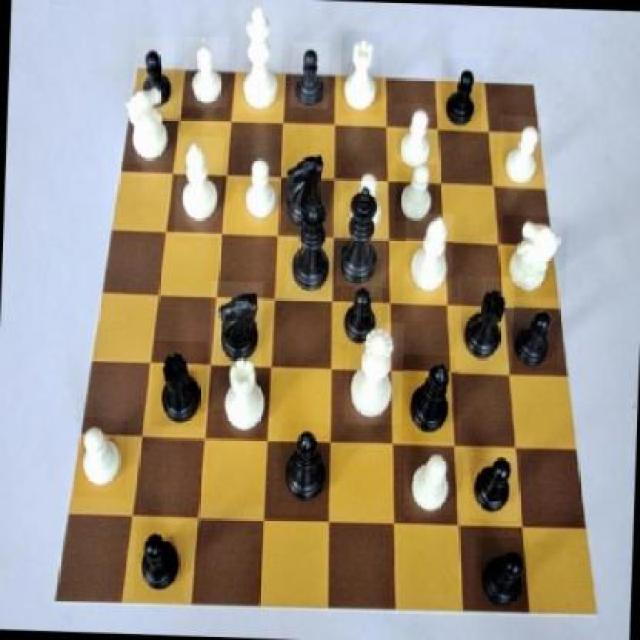bishop: (400, 355, 459, 443), (277, 422, 332, 506)
black-bishop: (336, 182, 390, 288)
black-king: (209, 280, 265, 366), (278, 148, 332, 235)
black-knight: (132, 522, 186, 600), (474, 537, 529, 612), (462, 452, 519, 520), (508, 302, 560, 372), (132, 36, 176, 111), (438, 57, 482, 130), (337, 278, 383, 346), (289, 42, 330, 108)
black-pawn: (286, 191, 337, 300)
black-queen: (456, 275, 516, 371), (151, 340, 207, 428)
black-rook: (174, 136, 223, 237), (403, 212, 454, 300)
white-bishop: (235, 0, 282, 112)
white-king: (500, 216, 568, 300), (119, 80, 176, 166)
white-knight: (74, 417, 129, 499), (497, 116, 549, 192), (237, 144, 281, 228), (403, 444, 455, 514), (182, 37, 228, 109), (392, 103, 438, 170), (345, 166, 387, 232), (396, 163, 436, 222)
white-pawn: (344, 322, 404, 426)
white-queen: (217, 344, 270, 444), (338, 31, 382, 115)
